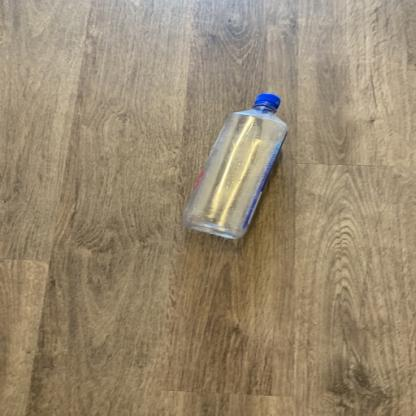trash: (183, 92, 287, 242)
